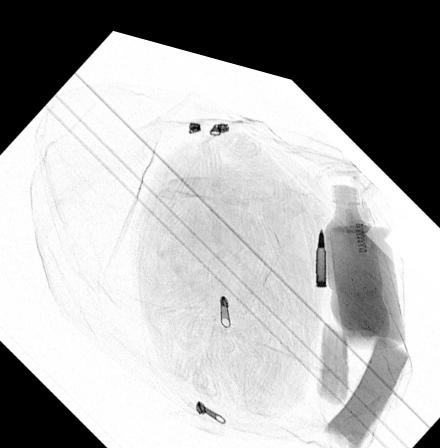Bullet: (314, 208, 326, 268)
